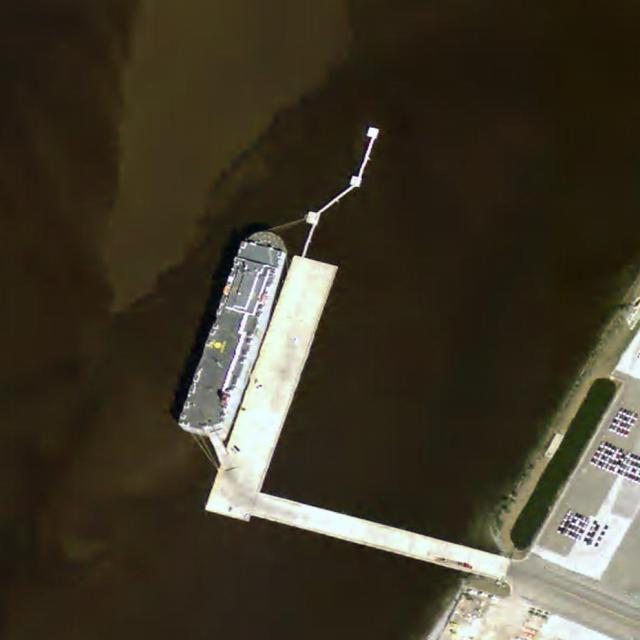Dock: (206, 250, 339, 526)
RoRo: (177, 217, 297, 446)
